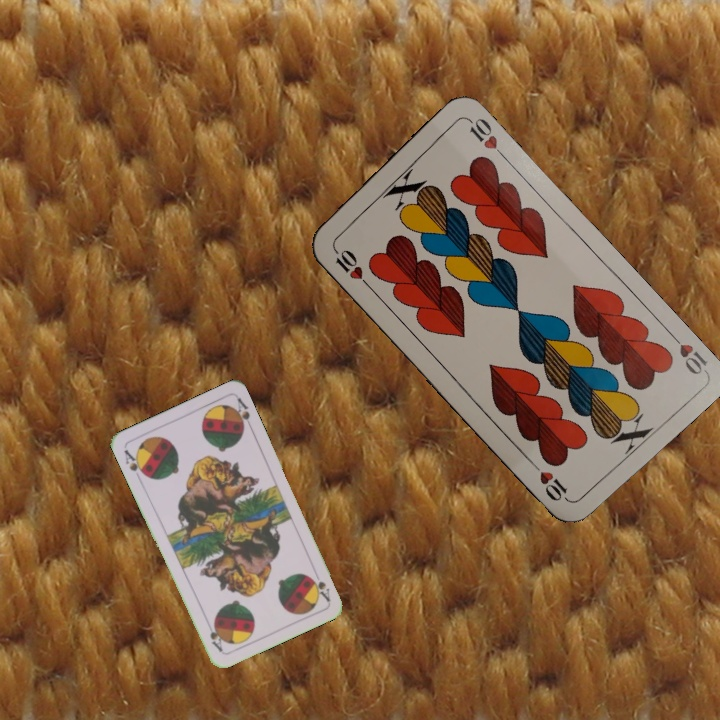H10: (664, 327, 710, 378), (328, 242, 373, 290)
SA: (120, 445, 149, 479), (307, 572, 333, 604)
